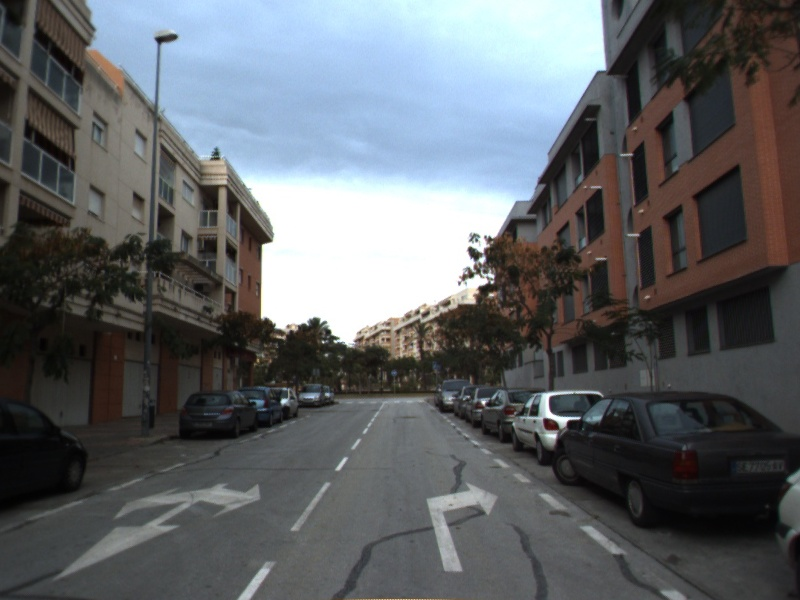RIGHT: (424, 479, 501, 574)
